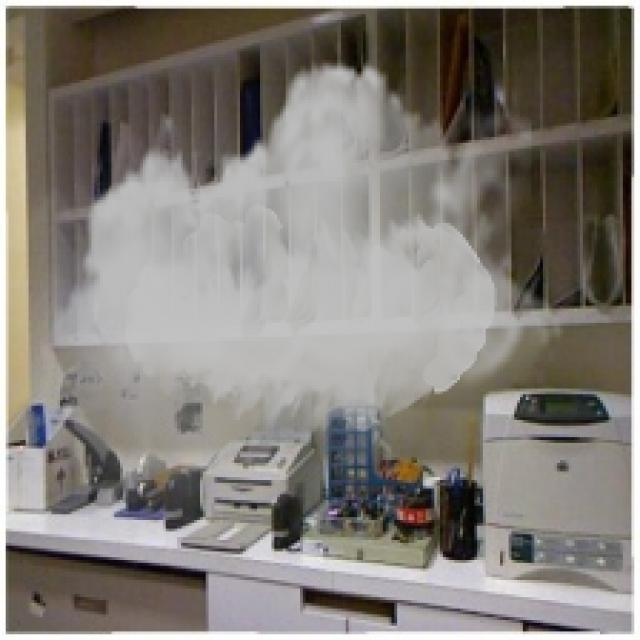smoke: (40, 40, 566, 589)
